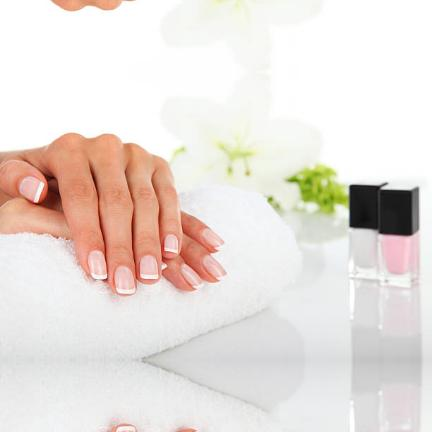Nail: (19, 176, 45, 203), (114, 265, 136, 294), (202, 255, 227, 280), (181, 264, 204, 289), (88, 250, 107, 280), (202, 228, 224, 250), (140, 255, 158, 279), (164, 234, 178, 253), (115, 426, 136, 432), (194, 431, 201, 432)
